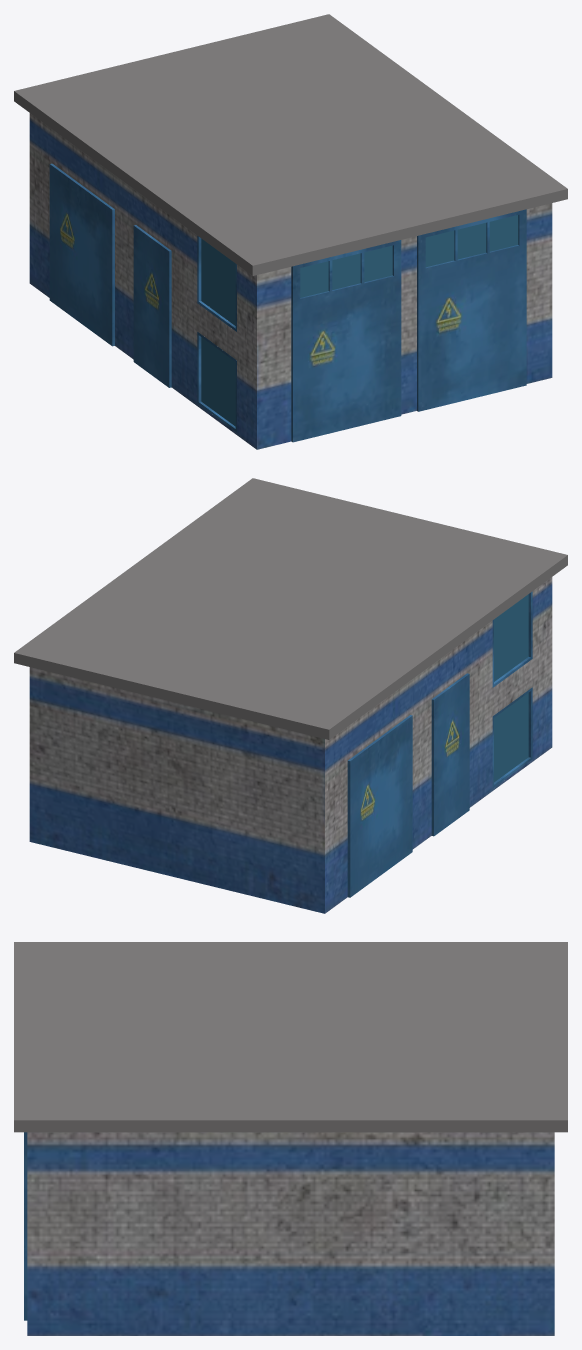
Rendered from transformer-kiosk.lod1.glb.
3 views of the same model, one above another, from view 1: azimuth 30°, elevation 25°; view 2: azimuth 150°, elevation 25°; view 3: azimuth 270°, elevation 25° (orthographic). The views are drawn at different scales.
Parts seen in each view (by area): view 1: Zdanie_ETP_roof_0, Zdanie_ETP_metal_0, Zdanie_ETP_Brick_0; view 2: Zdanie_ETP_roof_0, Zdanie_ETP_Brick_0, Zdanie_ETP_metal_0; view 3: Zdanie_ETP_Brick_0, Zdanie_ETP_roof_0, Zdanie_ETP_metal_0.
Part boxes in pixels (x1=…): Zdanie_ETP_roof_0: x1=14, y1=14, x2=567, y2=426; Zdanie_ETP_metal_0: x1=49, y1=163, x2=526, y2=442; Zdanie_ETP_Brick_0: x1=29, y1=113, x2=552, y2=449; Zdanie_ETP_roof_0: x1=14, y1=478, x2=567, y2=782; Zdanie_ETP_Brick_0: x1=29, y1=577, x2=552, y2=913; Zdanie_ETP_metal_0: x1=347, y1=591, x2=532, y2=897; Zdanie_ETP_Brick_0: x1=27, y1=1132, x2=554, y2=1335; Zdanie_ETP_roof_0: x1=14, y1=942, x2=567, y2=1132; Zdanie_ETP_metal_0: x1=24, y1=1132, x2=27, y2=1320.
Bounding box in the file's own units: 3.2 × 1.85 × 4.2.
Materials: 3 (2 with a texture image).
